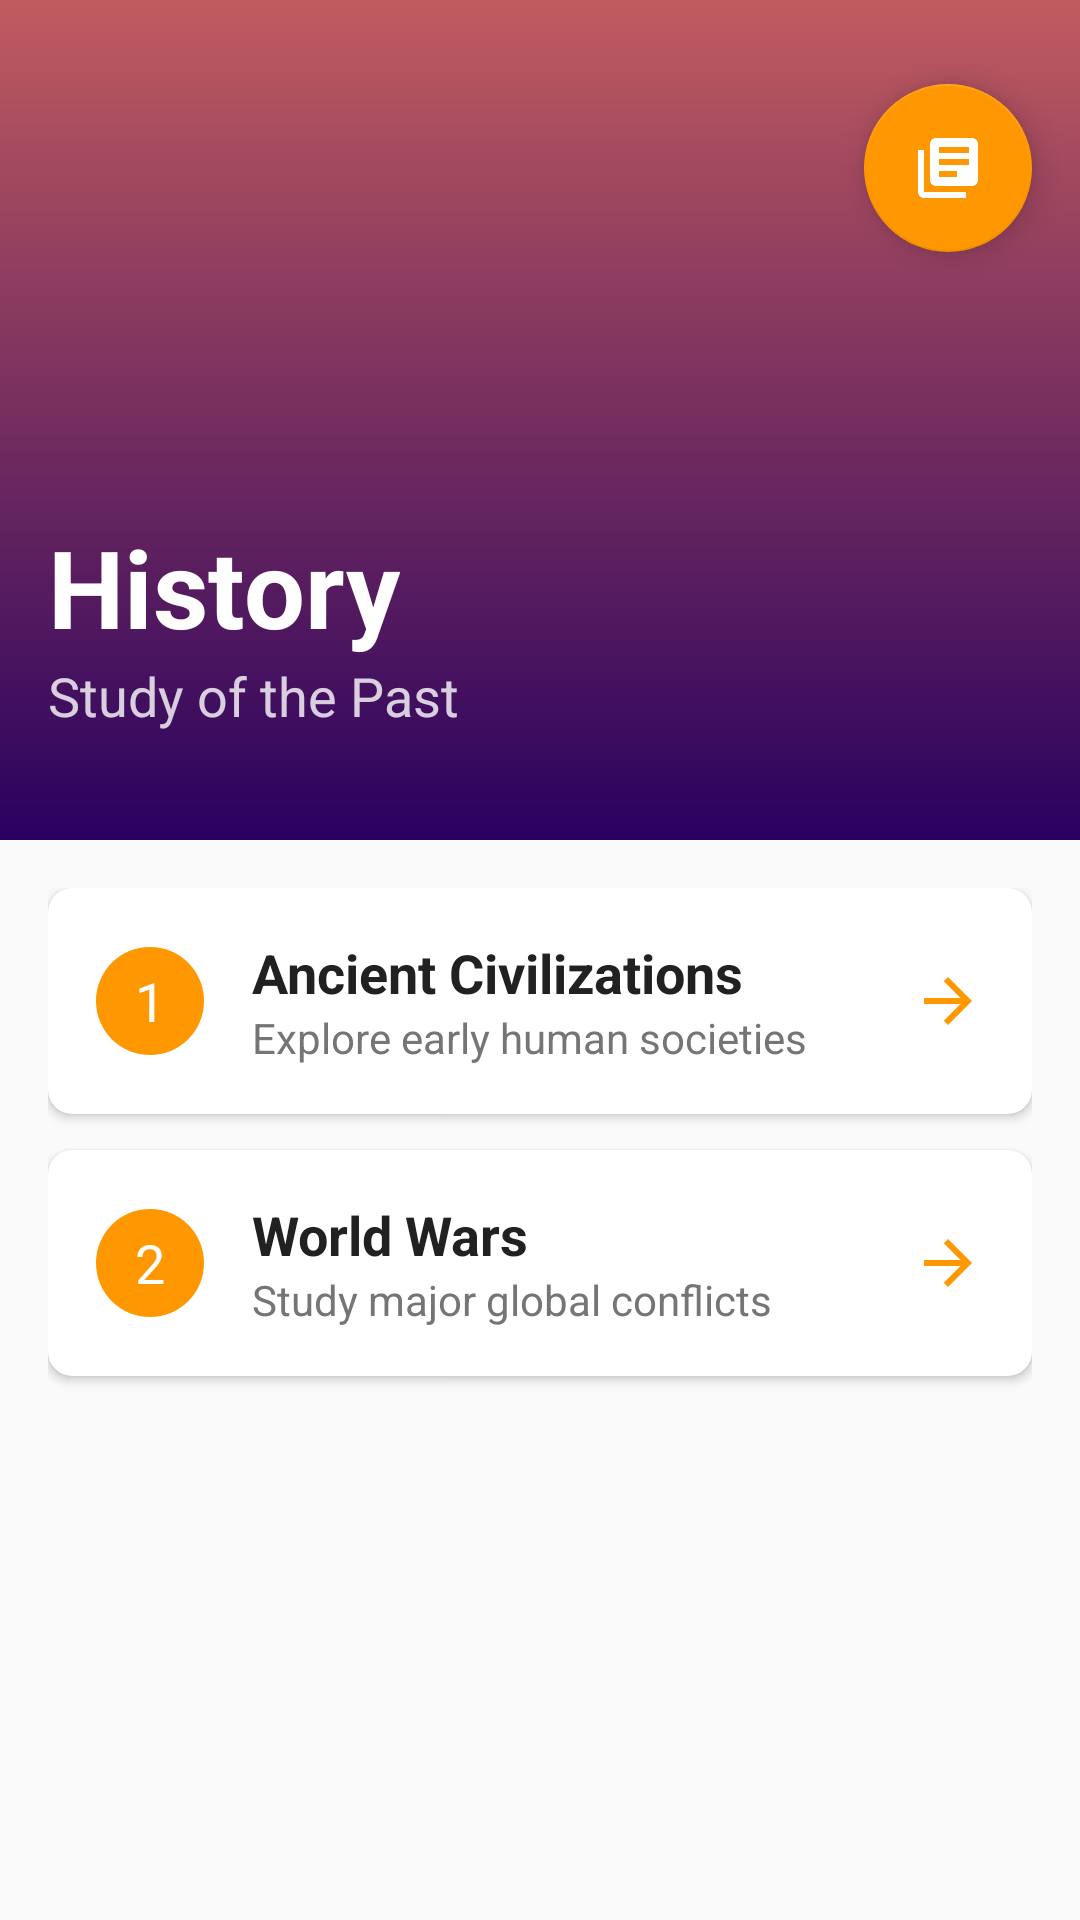

Point at icon controls on the screen. Image size 1080*1920, points as [x,y].
arrow forward: [948,1001], [948,1263]
